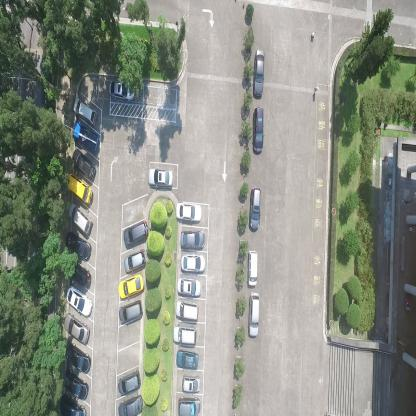car: (68, 201, 94, 238), (61, 313, 90, 346), (65, 285, 94, 318), (72, 121, 100, 154), (65, 173, 93, 205), (64, 342, 91, 374), (64, 230, 91, 262), (118, 270, 145, 300), (62, 371, 89, 400), (71, 148, 95, 180), (123, 218, 149, 247), (72, 95, 97, 125), (118, 299, 144, 325), (248, 184, 262, 232), (108, 78, 136, 102), (67, 262, 92, 288), (118, 367, 141, 395), (252, 48, 264, 100), (180, 226, 206, 249), (117, 394, 144, 416), (58, 394, 86, 415), (248, 291, 260, 339), (176, 199, 201, 222), (176, 275, 202, 297), (172, 324, 198, 346), (252, 106, 263, 156), (147, 167, 173, 188), (124, 248, 146, 272), (175, 300, 199, 321), (175, 349, 199, 370), (177, 395, 201, 415), (180, 254, 206, 272), (246, 250, 258, 287), (182, 372, 202, 392)
